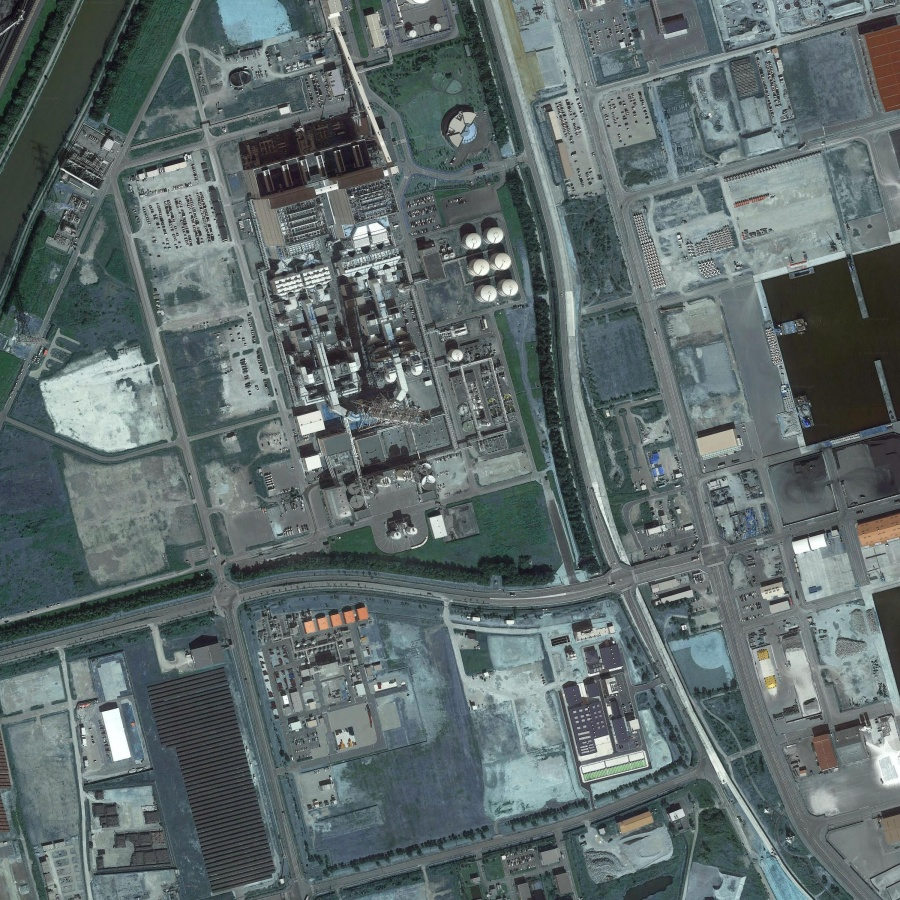PowerPlant: (250, 153, 530, 543)
